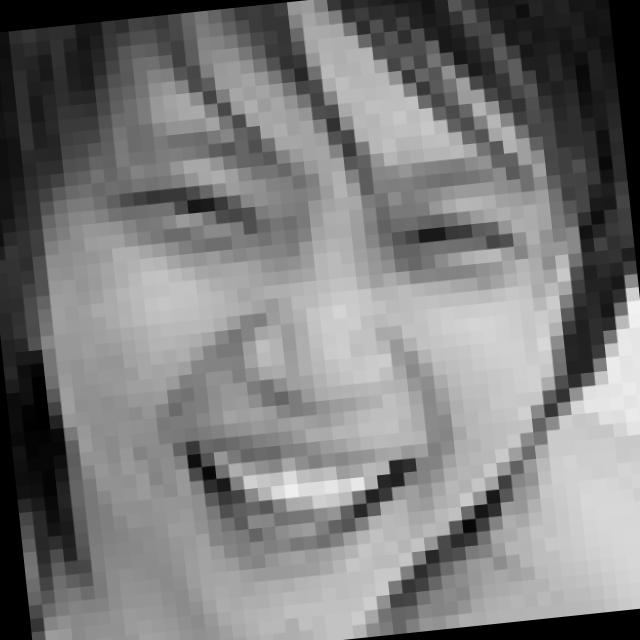happy: (80, 92, 574, 595)
